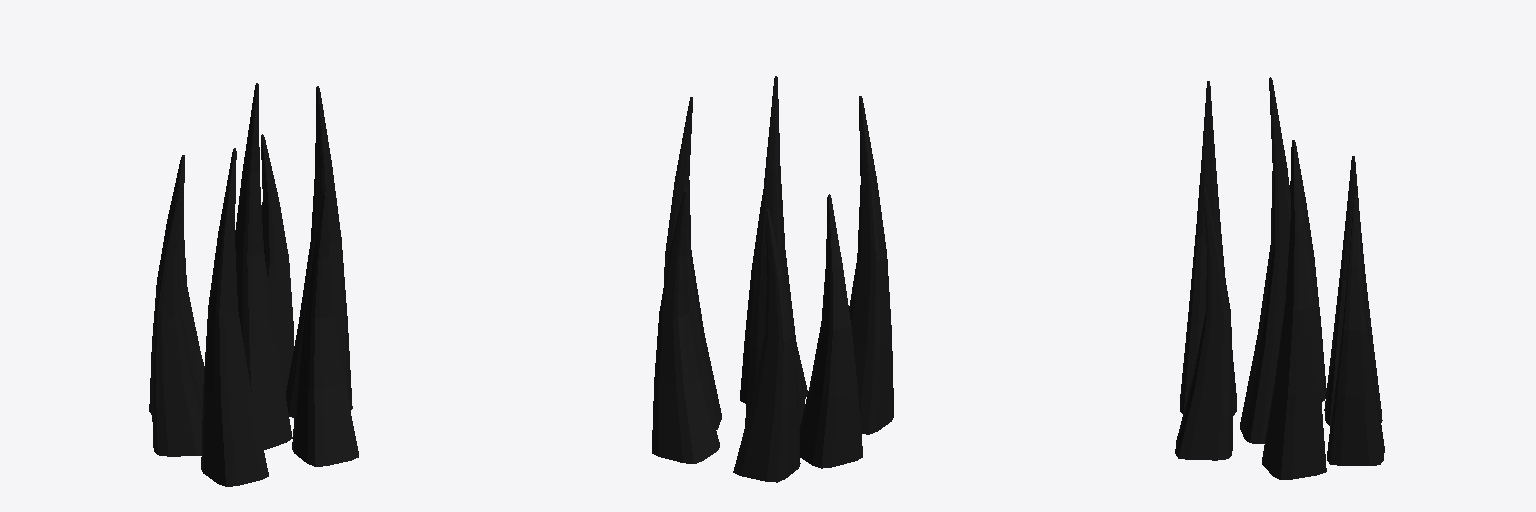
File: Spikes.obj
The picture shows the model from 3 angles: view 1: azimuth 30°, elevation 25°; view 2: azimuth 150°, elevation 25°; view 3: azimuth 270°, elevation 25°; orthographic projection.
Parts seen in each view (by area): view 1: Spikes_Cube.013; view 2: Spikes_Cube.013; view 3: Spikes_Cube.013.
Boxes of the visible parts, <box> form: Spikes_Cube.013: <box>149,83,358,486</box>; Spikes_Cube.013: <box>652,76,893,482</box>; Spikes_Cube.013: <box>1175,77,1384,479</box>.
Bounding box in the file's own units: 1.95 × 3.4 × 1.83.